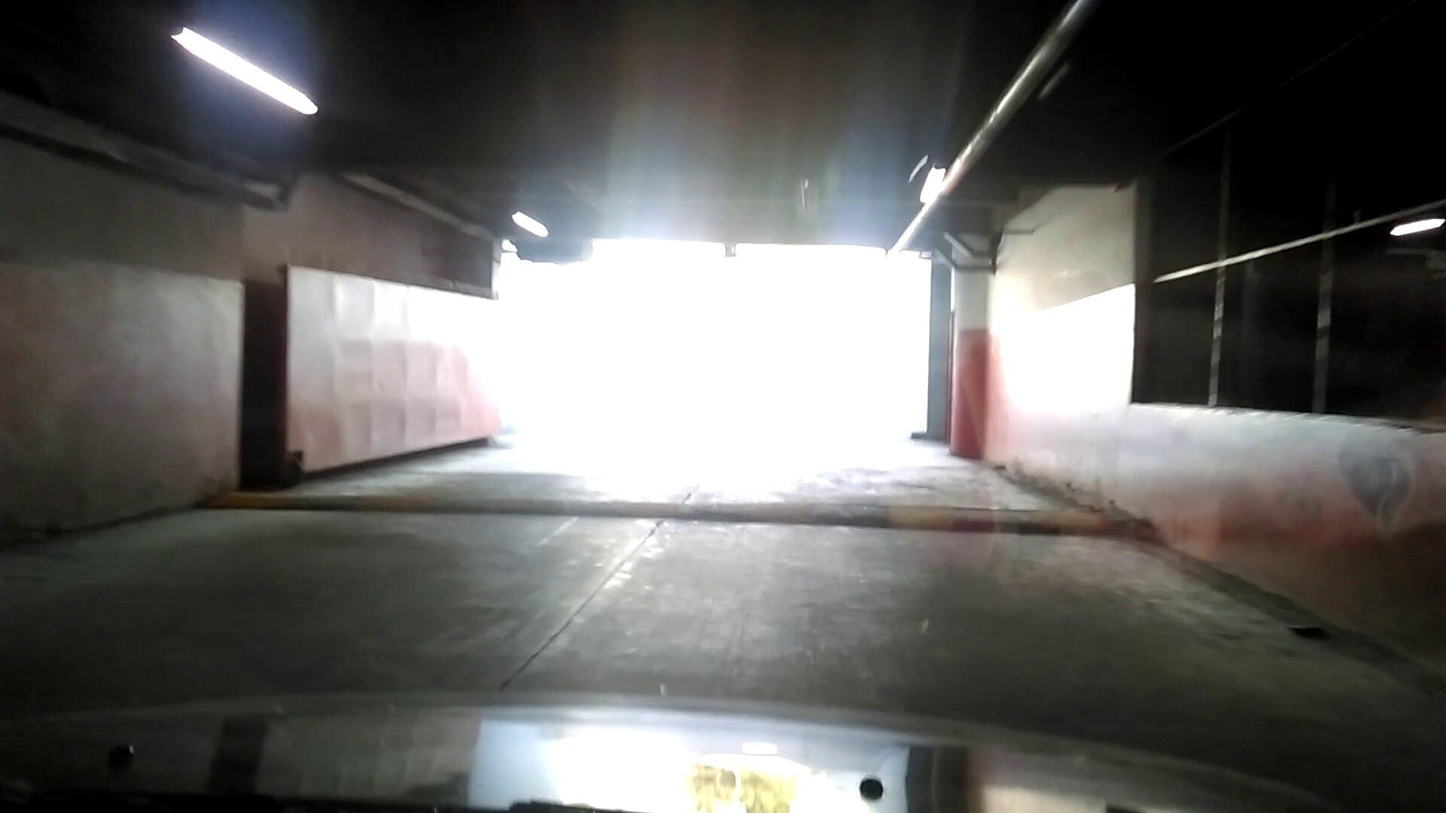Bump: (222, 484, 1143, 550)
